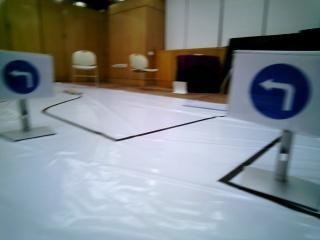left: (239, 53, 313, 126), (0, 54, 51, 96)
